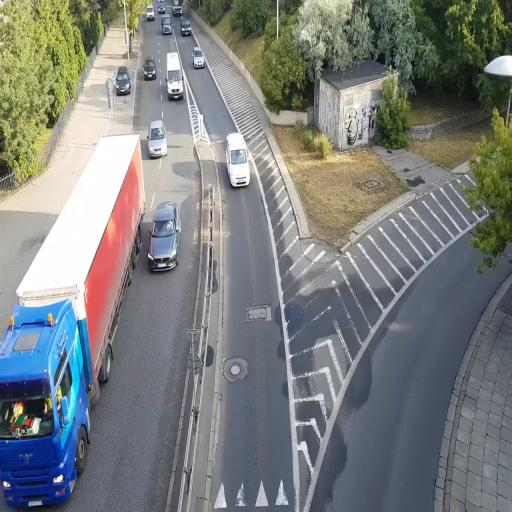vehicle: (1, 134, 147, 504), (0, 290, 92, 508), (147, 201, 181, 272), (225, 132, 250, 187), (166, 50, 184, 100), (148, 119, 167, 157), (113, 68, 131, 96), (143, 57, 157, 80), (192, 47, 205, 69), (180, 18, 192, 38)
